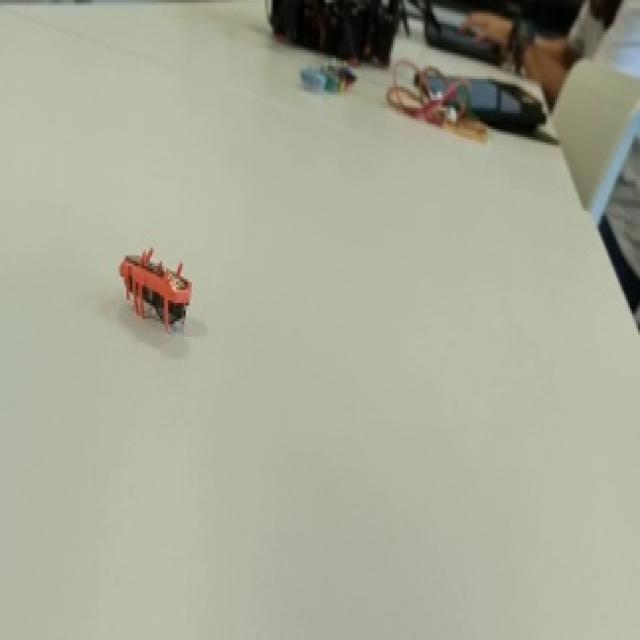2_NanoBug_Negro: (338, 62, 362, 89)
3_NanoBug_Celeste: (301, 63, 330, 95)
7_NanoBug_Naranja: (103, 220, 210, 353)
